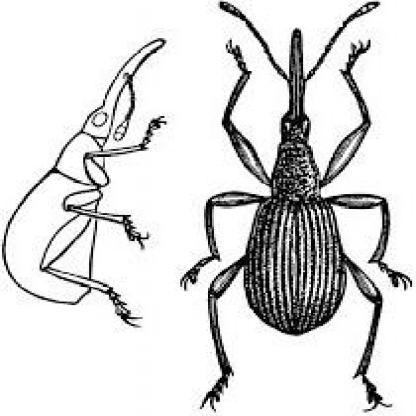ash weevil: (181, 3, 405, 413), (7, 29, 172, 326)
